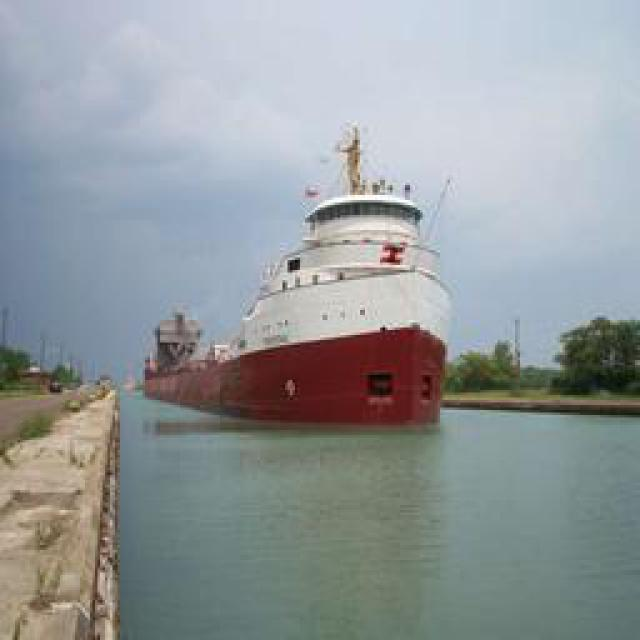Ship: (147, 139, 457, 434)
